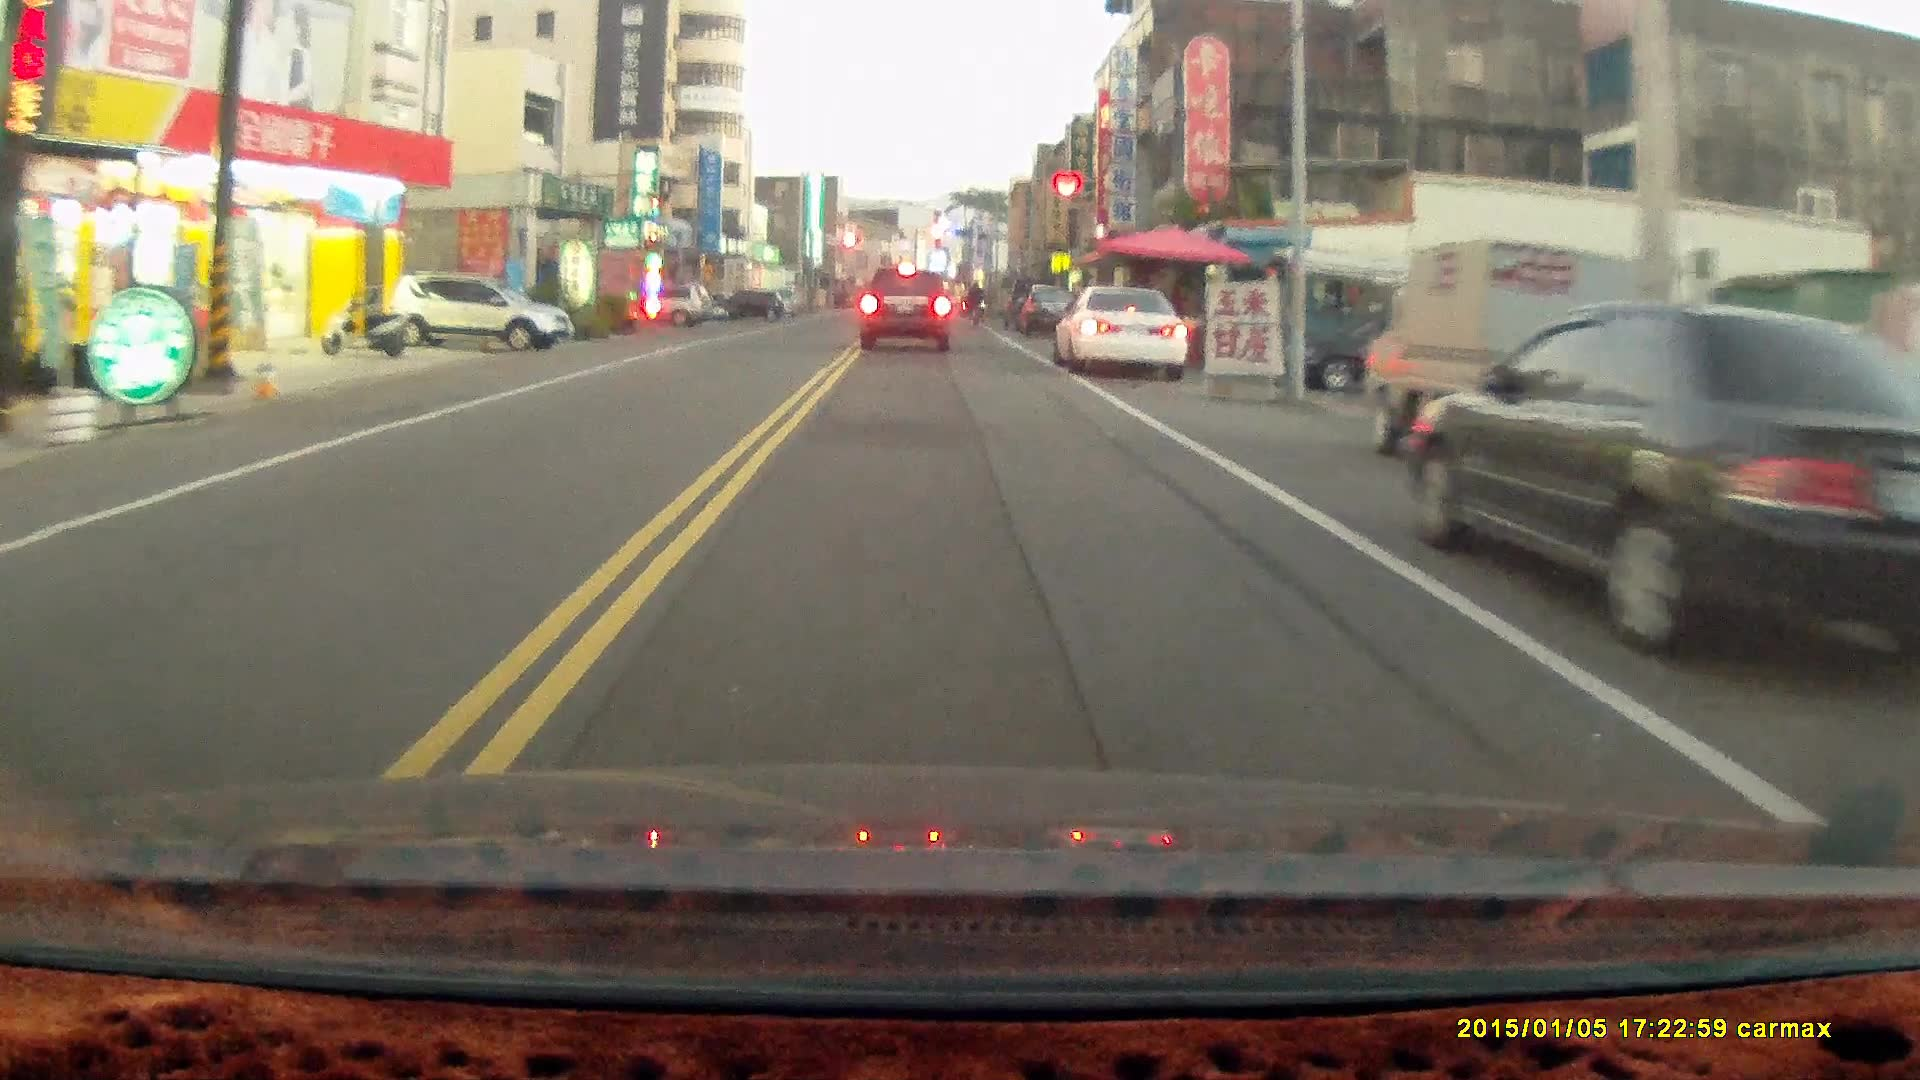vehicle: (1400, 307, 1920, 687), (1370, 247, 1648, 444), (1275, 298, 1535, 394), (380, 276, 568, 359), (1055, 285, 1189, 382), (857, 265, 953, 356)
